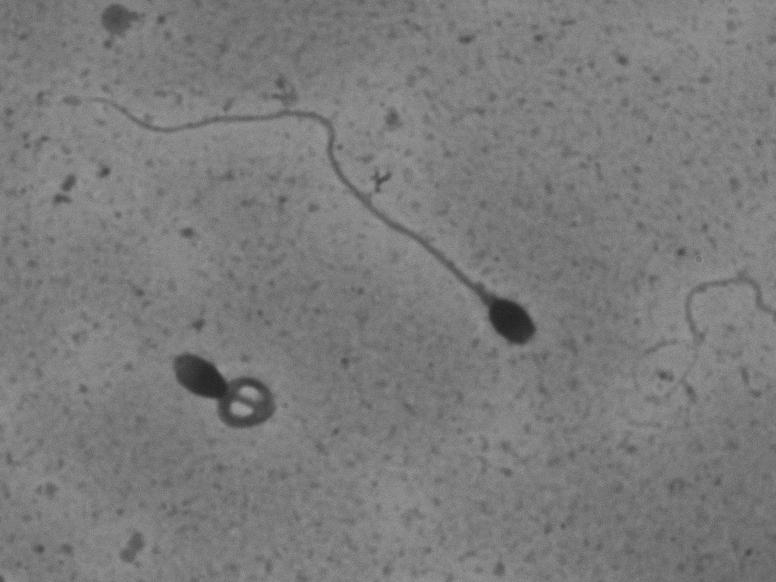Abnormal: (123, 339, 292, 471)
Normal: (57, 76, 574, 359)
